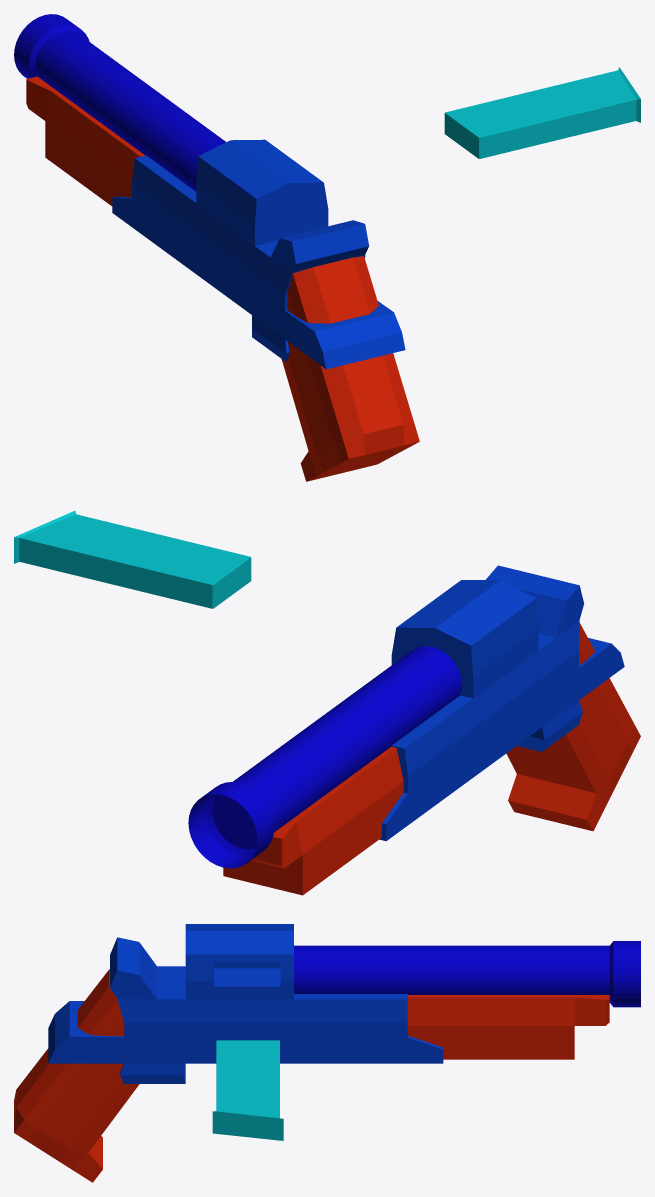
File: Pistol1.fbx
3 renders of one model, top to bottom at view 1: azimuth 30°, elevation 25°; view 2: azimuth 150°, elevation 25°; view 3: azimuth 270°, elevation 25°, orthographic. The views are drawn at different scales.
Visible parts, largest first — view 1: Metal Base, Handle, Barrel, Clip, Front Stock; view 2: Metal Base, Barrel, Clip, Handle, Front Stock; view 3: Metal Base, Barrel, Handle, Front Stock, Clip.
Part boxes in pixels (x1,y1,x2,y2): Metal Base: (112,139,405,369); Handle: (281,256,419,481); Barrel: (14,14,225,191); Clip: (444,67,640,158); Front Stock: (26,76,144,206); Metal Base: (379,565,624,841); Barrel: (188,646,461,868); Clip: (14,511,251,608); Handle: (506,623,640,831); Front Stock: (223,746,403,895); Metal Base: (48,924,443,1083); Barrel: (294,941,640,1007); Handle: (14,969,139,1182); Front Stock: (407,995,609,1059); Clip: (212,1040,283,1140).
Bounding box in the file's own units: 1181 × 679 × 1646.
